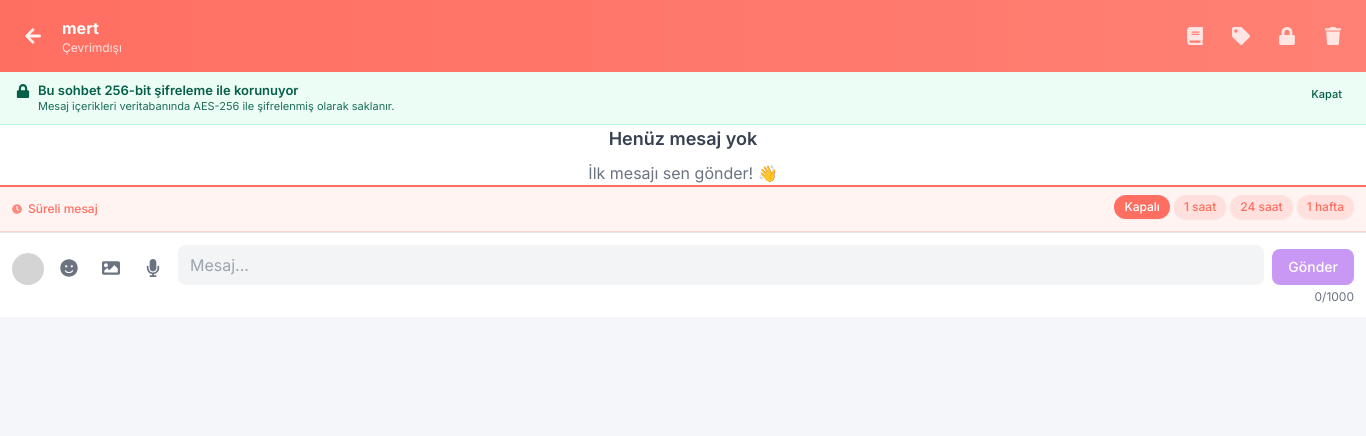
Scenario: ChatWindow bilet akışı › mevcut sohbette gönderim 403 alınca bilet durumu sorulur
Type "selam" into the text box with placeholder "Mesaj...". click: (721, 265)
box: [178,245,1264,285]
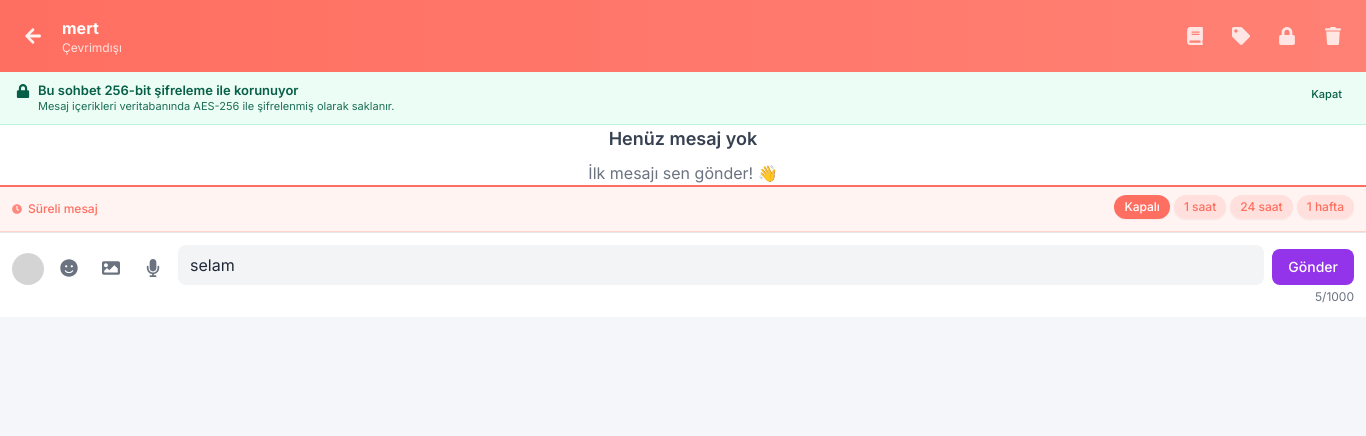
Press Enter in the text box with placeholder "Mesaj...", box [178,245,1264,285]
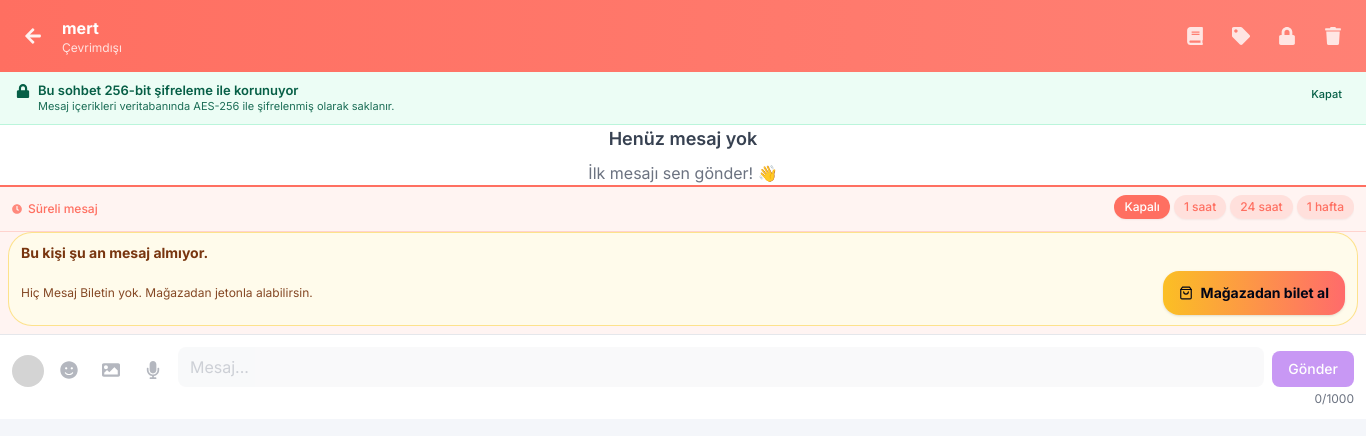
Result: the link "Mağazadan bilet al" is shown at [1163,271,1345,315]
